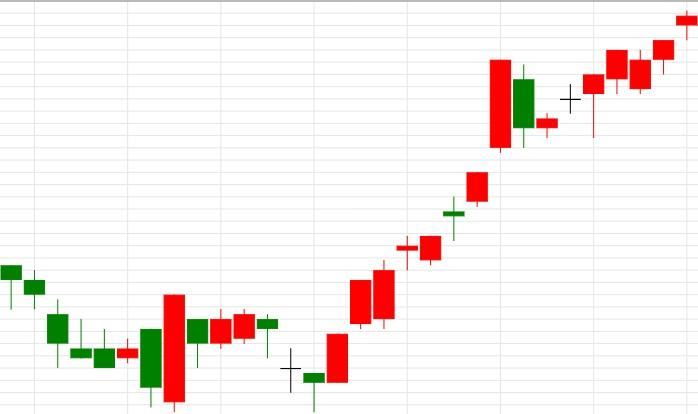bullish_engulfing_rise: (0, 264, 186, 411)
hanging_man_fall: (302, 60, 606, 413)
